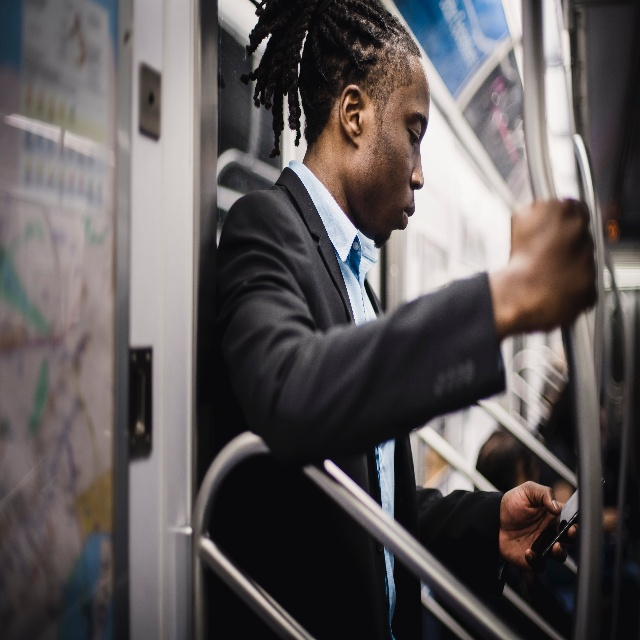Sin_guantes: (506, 203, 597, 329), (501, 481, 577, 566)
